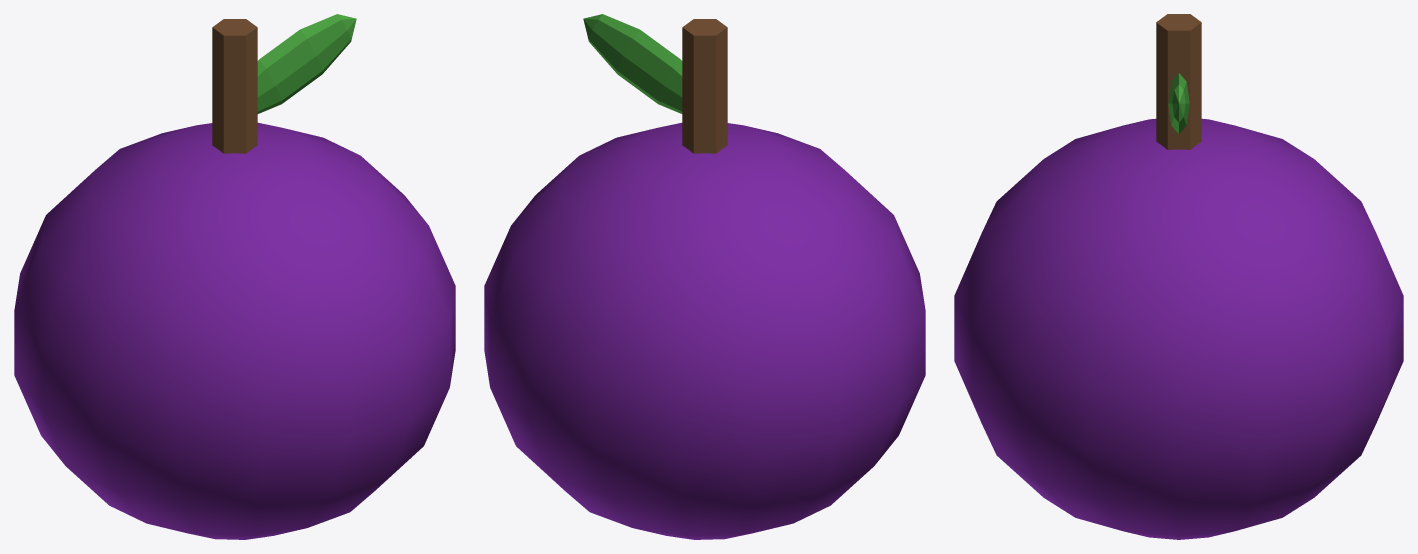
The model's file is Fruto_PoisonApple.fbx.
3 renders of one model, left to right at view 1: azimuth 30°, elevation 25°; view 2: azimuth 150°, elevation 25°; view 3: azimuth 270°, elevation 25°, orthographic.
Parts seen in each view (by area): view 1: Produto_PoisonApple, Cabo_PoisonApple; view 2: Produto_PoisonApple, Cabo_PoisonApple; view 3: Produto_PoisonApple, Cabo_PoisonApple.
Boxes of the visible parts, left/top/right/bottom form: Produto_PoisonApple: left=14, top=122, right=455, bottom=539; Cabo_PoisonApple: left=212, top=14, right=356, bottom=153; Produto_PoisonApple: left=484, top=122, right=925, bottom=539; Cabo_PoisonApple: left=583, top=14, right=727, bottom=153; Produto_PoisonApple: left=954, top=118, right=1403, bottom=539; Cabo_PoisonApple: left=1156, top=14, right=1201, bottom=149.
Bounding box in the file's own units: 0.6894 × 0.8405 × 0.6894.
Materials: 1 (1 with a texture image).
